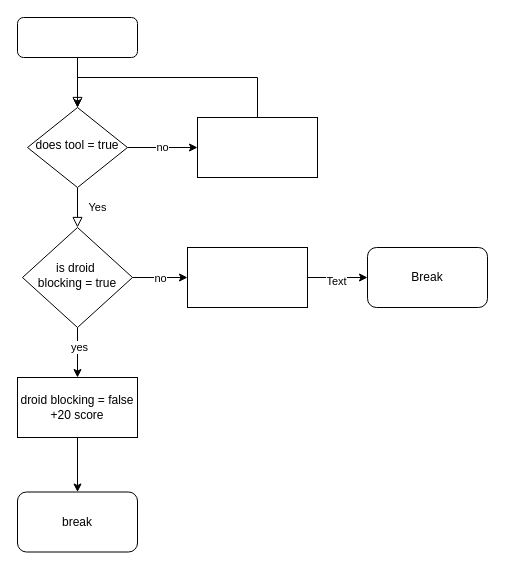
This 505x570 diagram has some shape labels left out. Each missing label, with the box of its shape:
increase hazard by 1: (196, 116, 318, 178)
no droid to repair: (186, 246, 308, 308)
Repair(): (16, 16, 138, 58)
